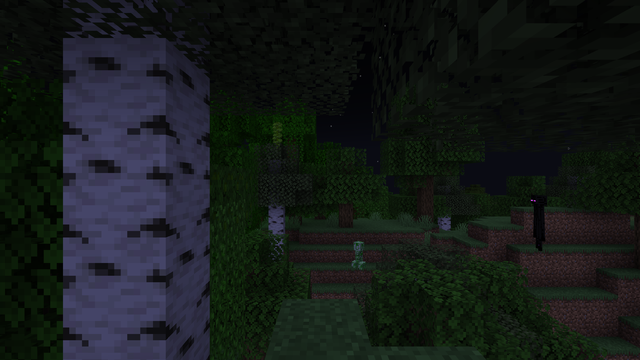creepers: (353, 239, 363, 268)
endermens: (528, 193, 549, 250)
